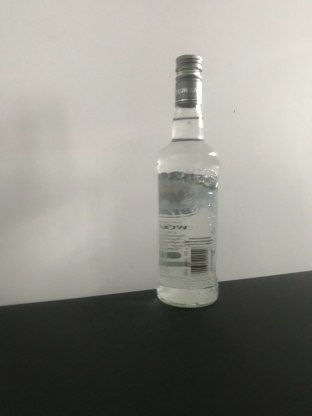nakretka: (173, 52, 204, 109)
